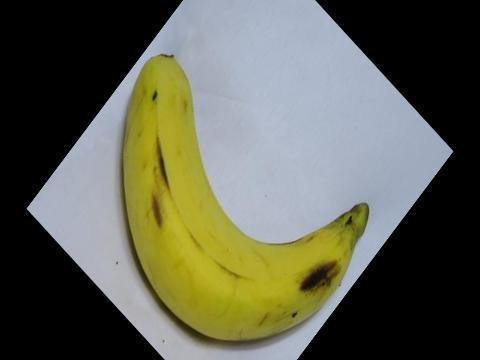freshripe: (114, 40, 378, 346)
